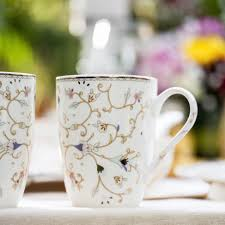mug: (51, 61, 206, 212)
